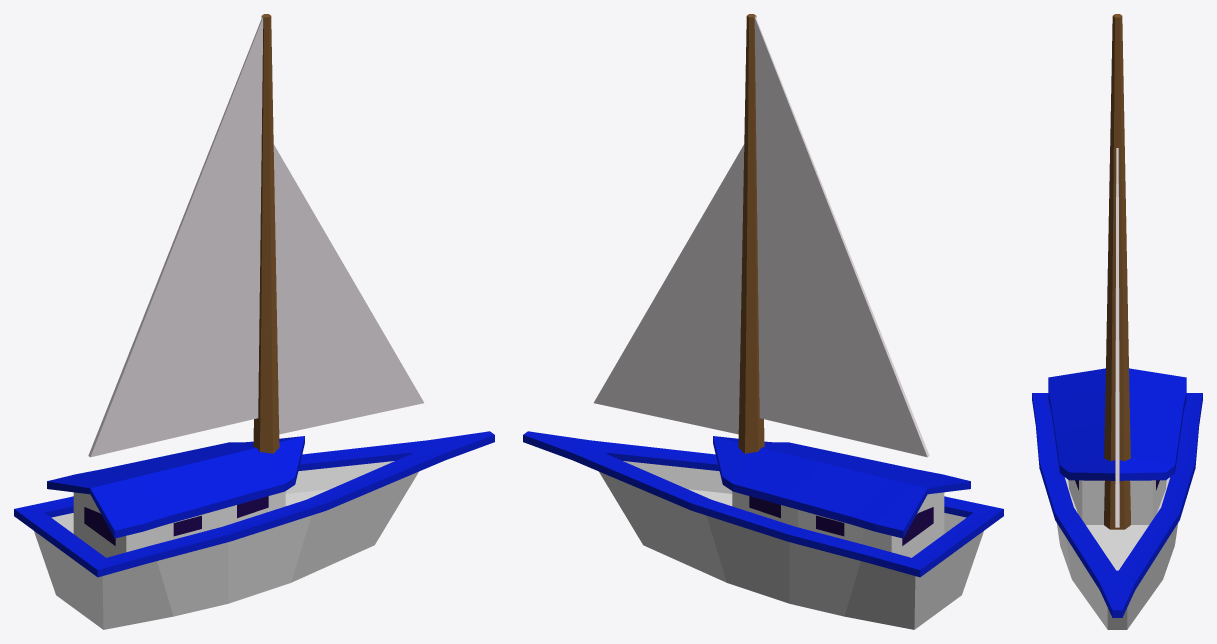
The model's file is sailboat.fbx.
The picture shows the model from 3 angles, left to right: view 1: azimuth 30°, elevation 25°; view 2: azimuth 150°, elevation 25°; view 3: azimuth 270°, elevation 25°; orthographic projection. The views are drawn at different scales.
Parts seen in each view (by area): view 1: Mast, Hull; view 2: Mast, Hull; view 3: Hull, Mast.
Part boxes in pixels (x1,y1,x2,y2): Mast: [88, 14, 423, 457]; Hull: [14, 431, 494, 629]; Mast: [594, 14, 929, 457]; Hull: [523, 431, 1003, 629]; Hull: [1032, 368, 1202, 629]; Mast: [1104, 14, 1130, 529].
Size of the model in its own units: 700 by 845 by 232.
